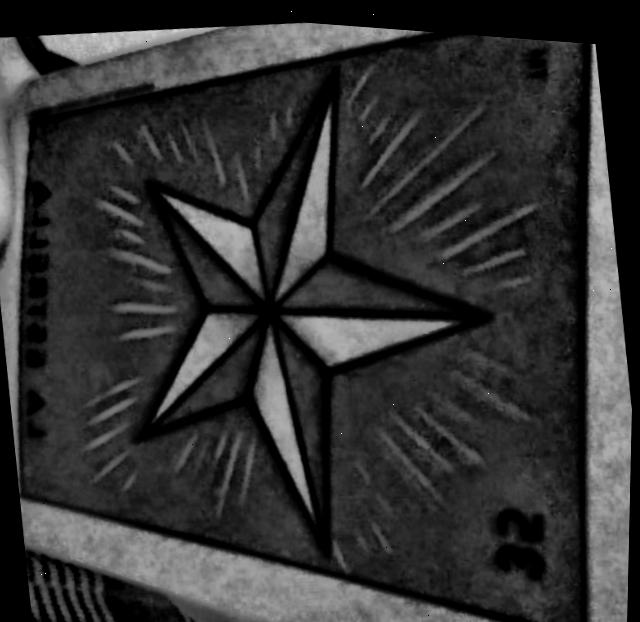La Estrella: (22, 26, 589, 622)
